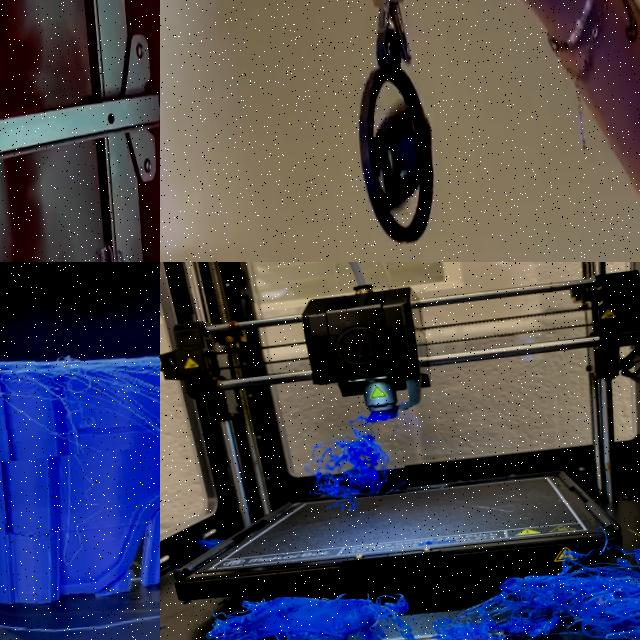spaghetti: (204, 565, 640, 640), (0, 279, 160, 478), (306, 411, 407, 499), (198, 539, 220, 550)
